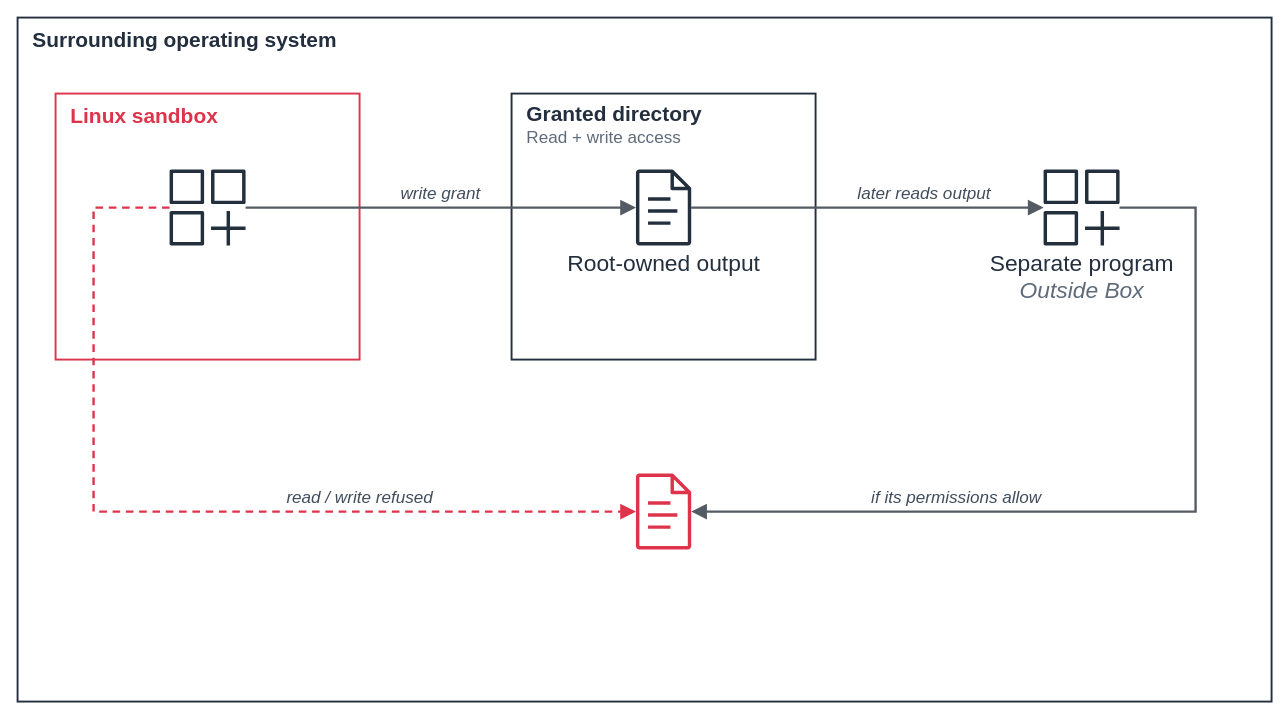
This 1288x718 diagram has some shape labels left out. The centre of each missing label's shape, as x and y in pixels:
"File outside the grant Not exposed to sandbox" goes at pixel 663 511.
"Root workload Capabilities cleared" goes at pixel 207 207.
